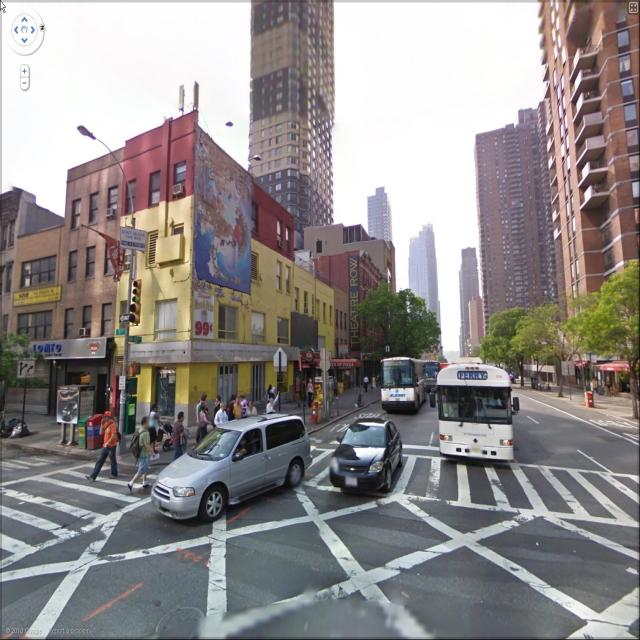b_1: (112, 111, 303, 442), (535, 4, 640, 263), (56, 147, 137, 424), (246, 3, 338, 209), (474, 99, 560, 292), (0, 226, 66, 356), (407, 222, 451, 316), (454, 242, 484, 350), (368, 178, 403, 252)
b_2: (474, 263, 640, 381), (324, 250, 446, 383)
